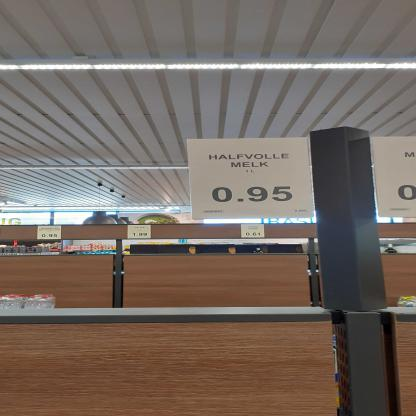prtg: (187, 138, 316, 220)
